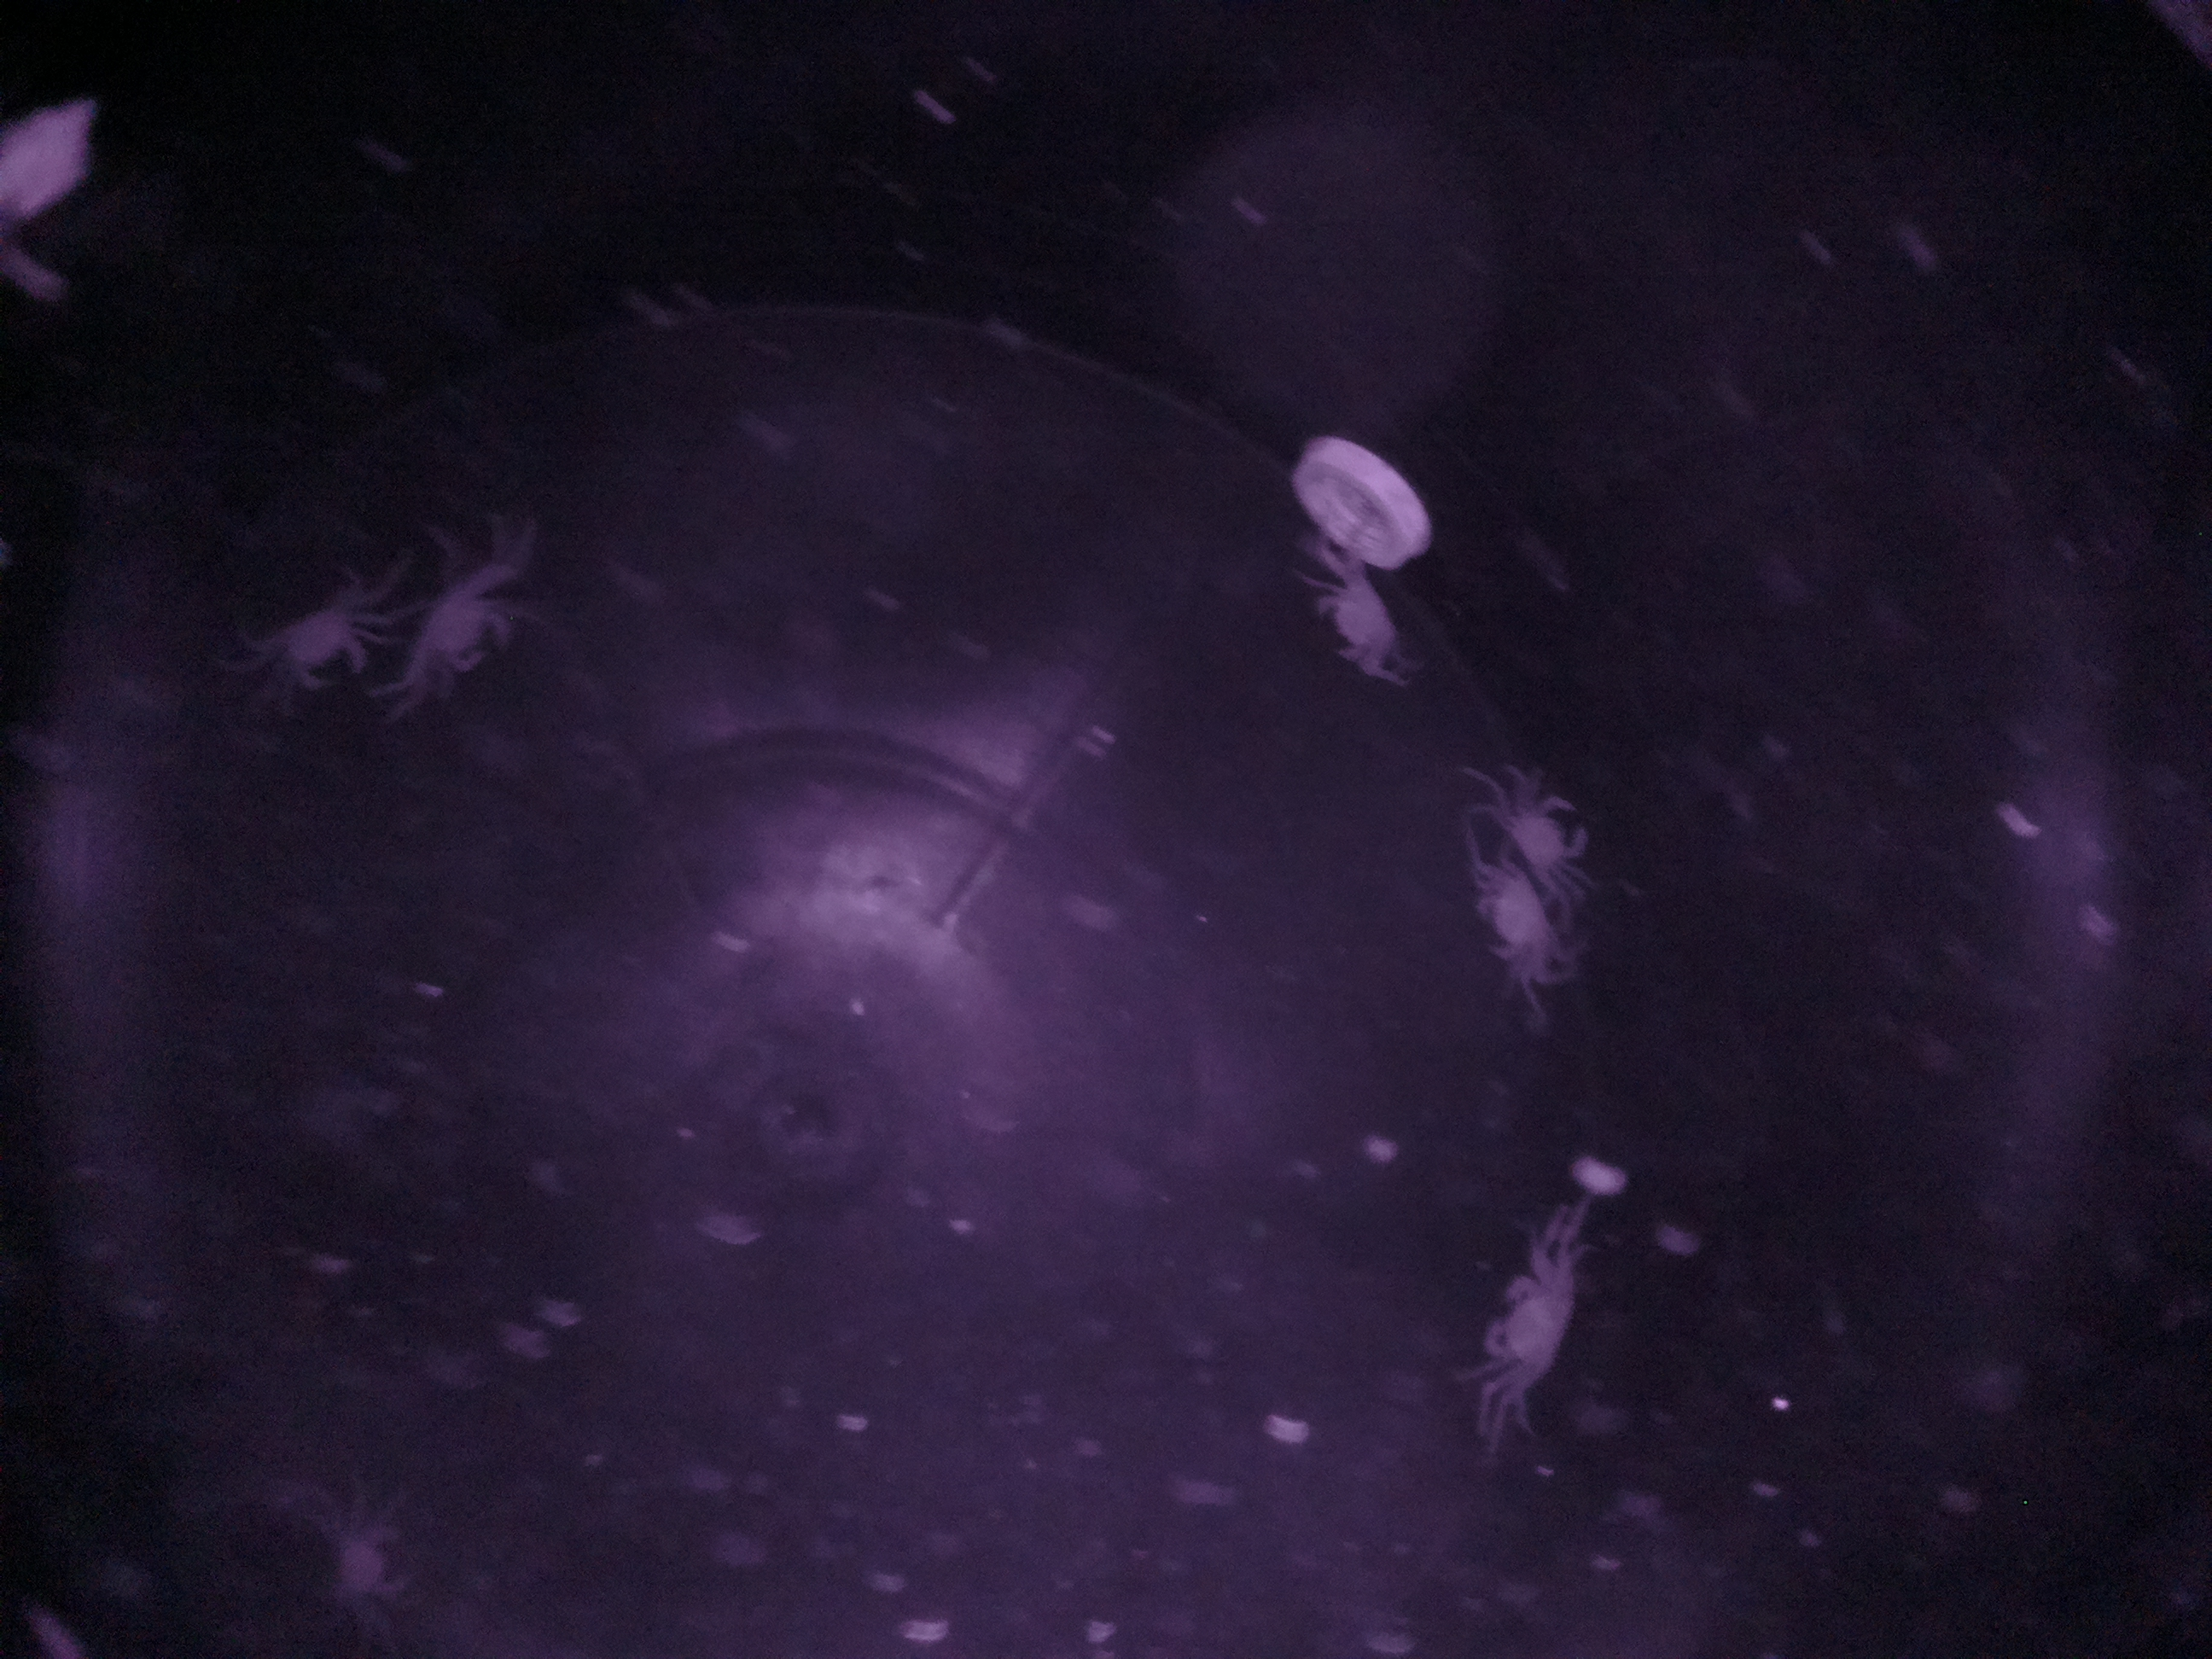Crab: (401, 538, 529, 706), (1460, 1258, 1595, 1417), (266, 558, 383, 714), (1453, 864, 1568, 990), (1486, 781, 1606, 882)
